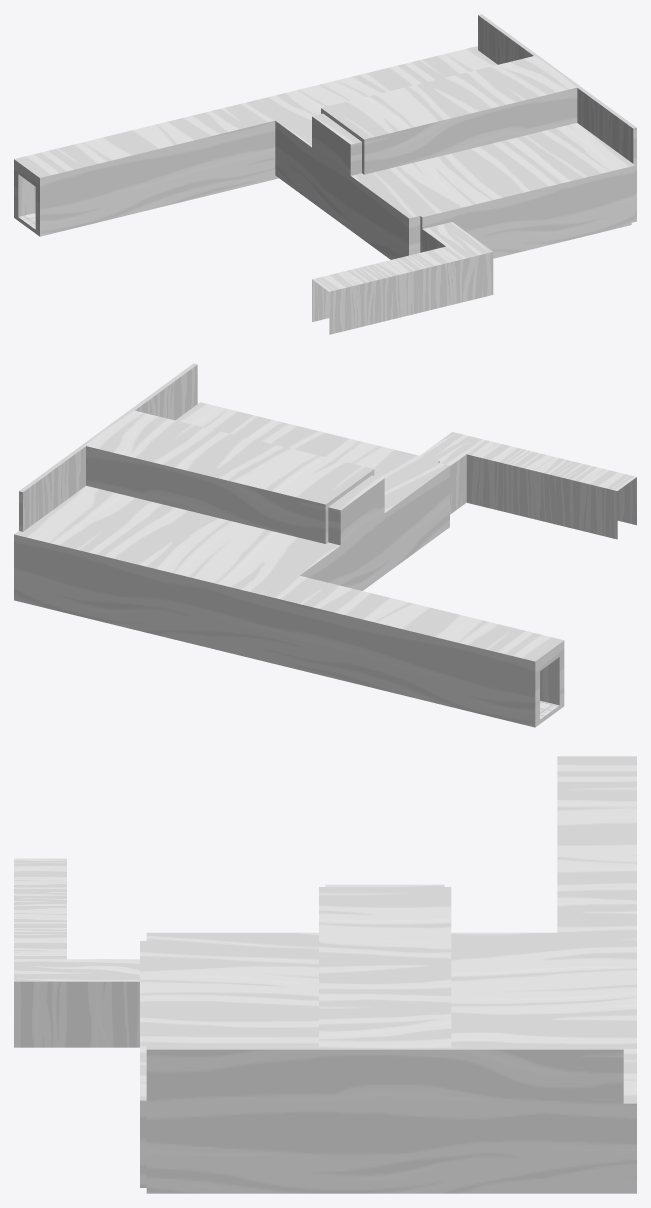
Rendered from artifactroom.fbx.
The picture shows the model from 3 angles, top to bottom: view 1: azimuth 30°, elevation 25°; view 2: azimuth 150°, elevation 25°; view 3: azimuth 270°, elevation 25°; orthographic projection. The views are drawn at different scales.
Visible parts, largest first — view 1: mesh_15; view 2: mesh_15; view 3: mesh_15.
Boxes of the visible parts, x1,y1,x2,y2 form: mesh_15: (14, 14, 636, 334); mesh_15: (14, 363, 636, 727); mesh_15: (14, 756, 636, 1193).
Bounding box in the file's own units: 1984 × 384 × 1504.
